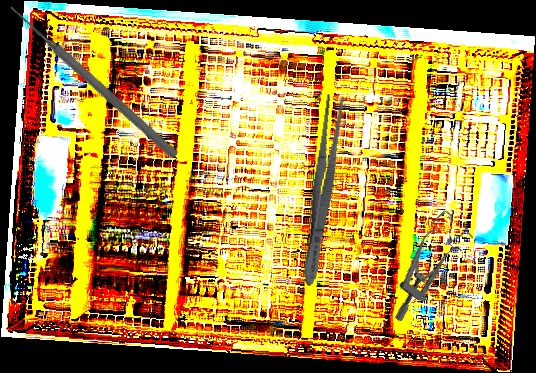Dressing Forceps: (297, 92, 348, 288)
Pusher: (5, 1, 181, 161)
Speculum: (365, 207, 483, 324)
